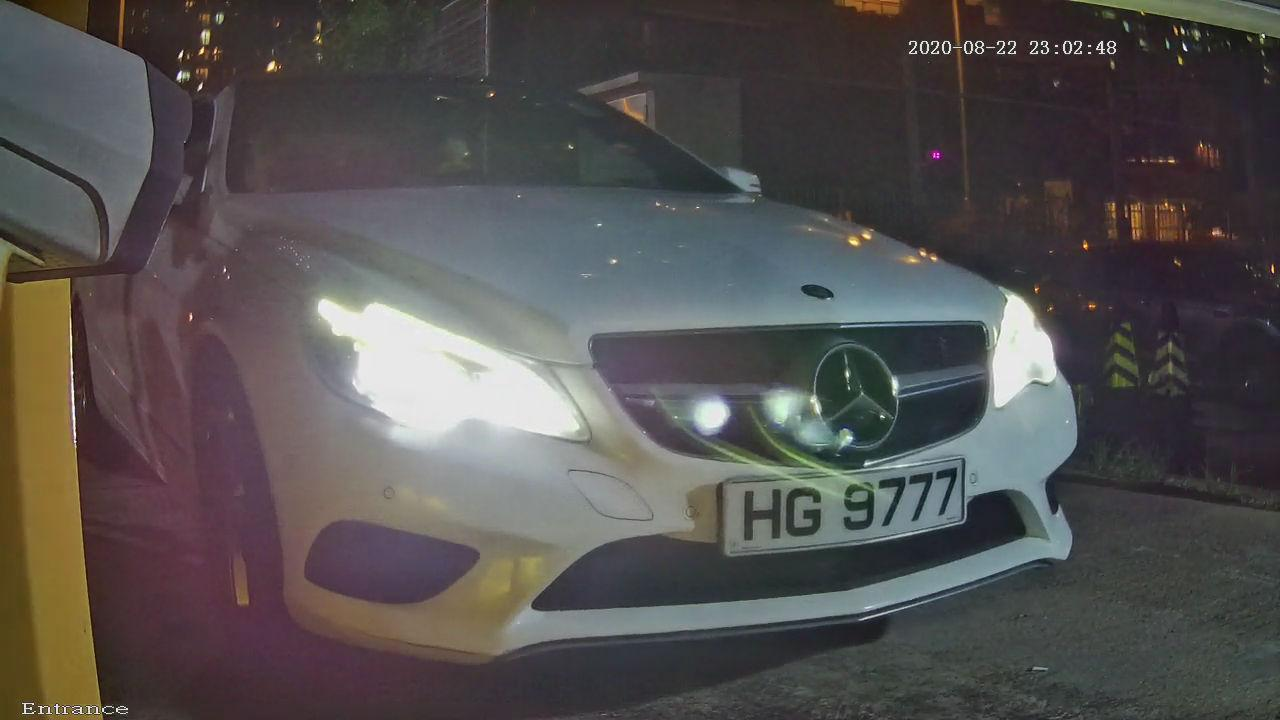Car: (58, 7, 1183, 714)
License Plate: (671, 413, 1021, 613)
